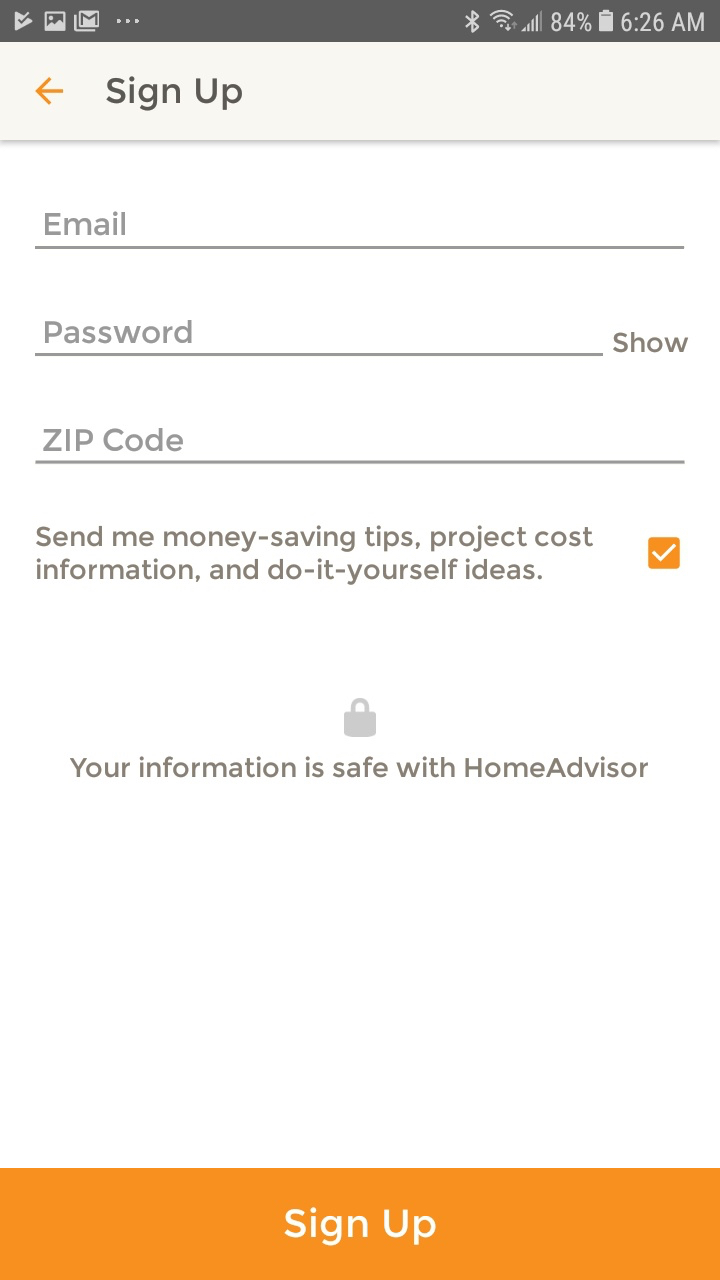CheckedTextView: (35, 523, 681, 587)
EditText: (35, 211, 686, 250), (35, 428, 686, 465), (35, 320, 604, 358)
Icon: (344, 698, 377, 738), (35, 78, 65, 107)
Text: (36, 524, 595, 586), (71, 756, 649, 779), (106, 76, 243, 112), (45, 320, 193, 345), (43, 428, 184, 452), (46, 211, 127, 237), (613, 332, 689, 354)
TextButton: (1, 1168, 720, 1280)
UpperTaskBar: (1, 1, 720, 43)
